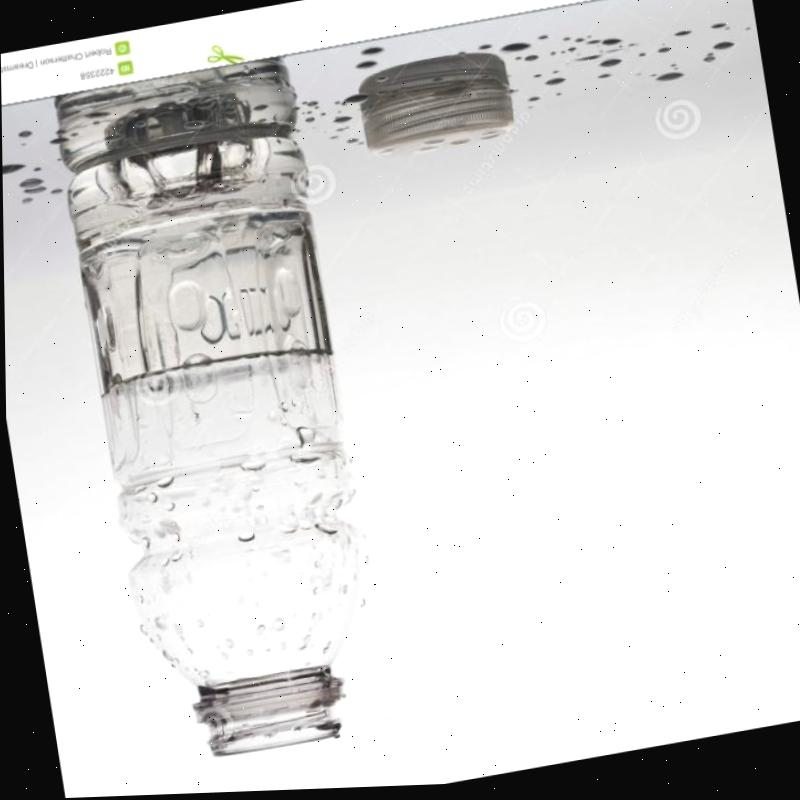botella: (59, 120, 398, 772)
